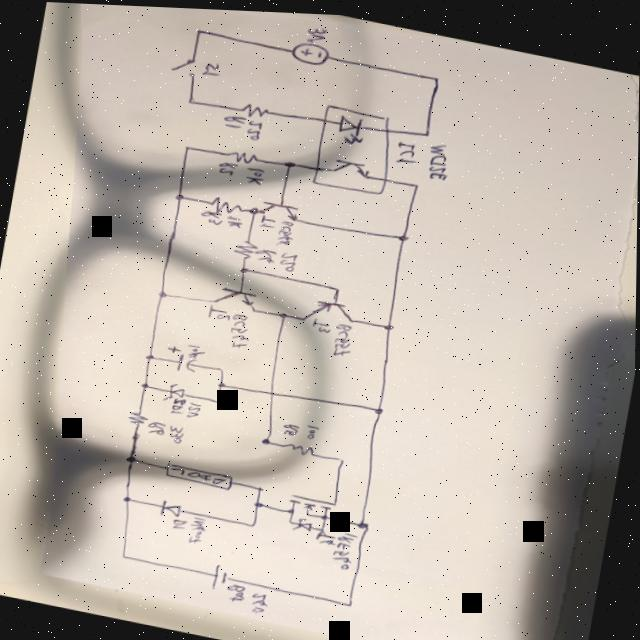capacitor: (163, 341, 201, 372)
crossover: (268, 386, 277, 393)
diode: (160, 496, 186, 518), (163, 379, 189, 401), (292, 512, 314, 530)
junction: (357, 515, 372, 526), (281, 155, 296, 166), (396, 227, 410, 238), (382, 317, 396, 328), (276, 306, 290, 317), (173, 189, 188, 199), (419, 124, 434, 134), (259, 432, 274, 442), (192, 23, 205, 34), (373, 401, 386, 411), (157, 287, 170, 296), (238, 262, 251, 271), (409, 176, 422, 185), (253, 497, 266, 505), (429, 70, 442, 78), (249, 203, 260, 212), (126, 453, 137, 460), (184, 95, 195, 102), (140, 379, 151, 386), (145, 351, 156, 358), (122, 493, 133, 500), (256, 482, 267, 489), (331, 282, 342, 289), (337, 452, 348, 459), (249, 518, 259, 525), (322, 509, 330, 517), (182, 141, 191, 148), (347, 597, 356, 604), (217, 379, 227, 385), (289, 504, 297, 511), (214, 395, 223, 401), (121, 551, 130, 557), (217, 363, 226, 369), (287, 516, 296, 521), (320, 523, 327, 528)
resistor: (165, 459, 237, 488), (209, 192, 247, 215), (281, 435, 320, 454), (222, 143, 259, 163), (237, 97, 271, 118), (232, 233, 260, 258), (127, 408, 151, 425)
source: (287, 35, 334, 65), (210, 560, 233, 589)
switch: (169, 51, 200, 76)
text: (422, 135, 455, 178), (329, 524, 362, 567), (169, 464, 229, 484), (227, 309, 255, 348), (330, 318, 357, 356), (392, 134, 421, 162), (186, 511, 211, 543), (302, 19, 330, 42), (275, 216, 297, 244), (249, 586, 272, 612), (198, 205, 227, 224), (253, 242, 280, 262), (206, 300, 234, 319), (242, 162, 267, 183), (222, 109, 249, 128), (225, 579, 248, 601), (277, 247, 299, 270), (244, 115, 264, 139), (146, 416, 170, 434), (184, 340, 208, 358), (201, 57, 223, 75), (216, 157, 239, 174), (316, 526, 339, 543), (310, 314, 334, 330), (223, 210, 246, 226), (258, 210, 279, 227), (281, 418, 303, 434), (168, 422, 186, 441), (170, 393, 188, 412), (304, 420, 322, 438), (186, 398, 203, 417), (172, 514, 191, 529)
transistor: (299, 292, 357, 327), (286, 488, 339, 518), (210, 281, 260, 310), (254, 194, 304, 220)
